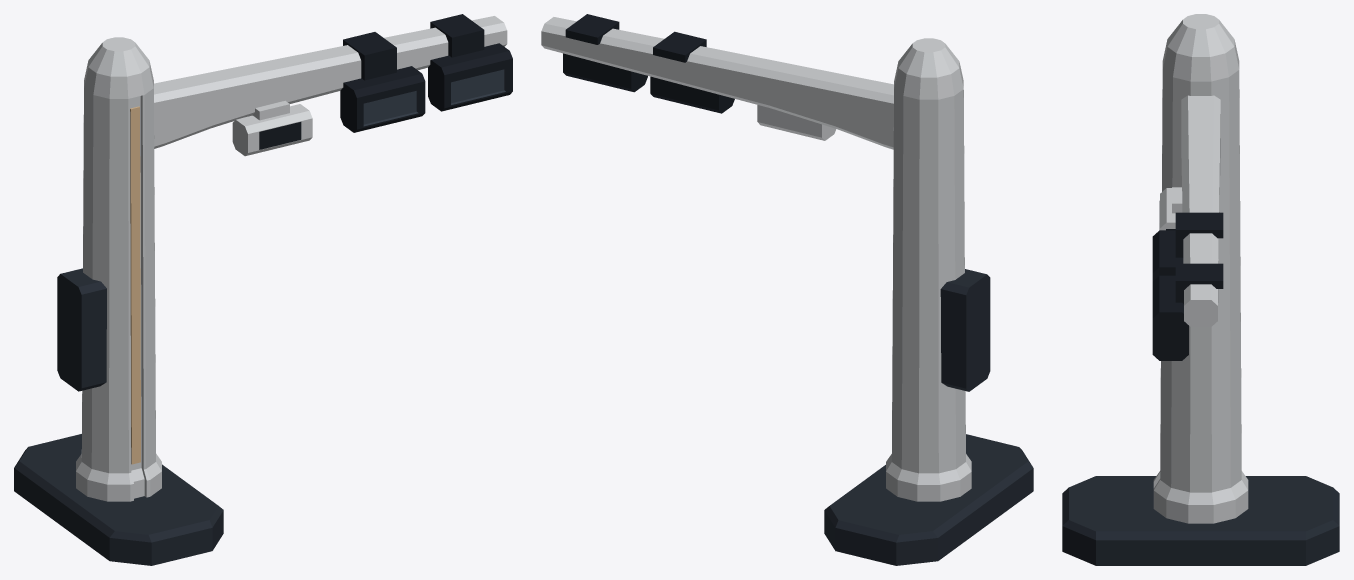
Rendered from traffic-signal-gantry-e02176.glb.
3 renders of one model, left to right at view 1: azimuth 30°, elevation 25°; view 2: azimuth 150°, elevation 25°; view 3: azimuth 270°, elevation 25°, orthographic. The views are drawn at different scales.
Visible parts, largest first — view 1: traffic-signal-gantry-body; view 2: traffic-signal-gantry-body; view 3: traffic-signal-gantry-body.
Boxes of the visible parts, x1,y1,x2,y2 form: traffic-signal-gantry-body: (14,14,512,565); traffic-signal-gantry-body: (541,14,1033,565); traffic-signal-gantry-body: (1062,14,1339,565).
Bounding box in the file's own units: 4.6 × 4.7 × 2.3.
